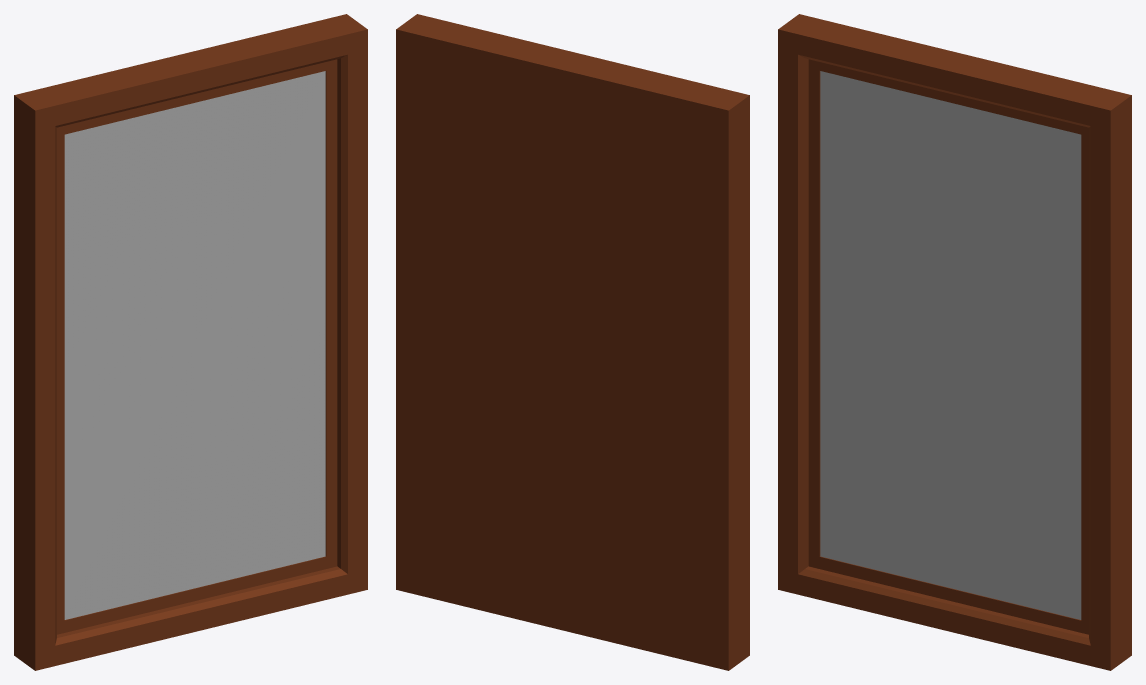
The model's file is Mirror.glb.
3 renders of one model, left to right at view 1: azimuth 30°, elevation 25°; view 2: azimuth 150°, elevation 25°; view 3: azimuth 330°, elevation 25°, orthographic.
Visible parts, largest first — view 1: Node; view 2: Node; view 3: Node.
Boxes of the visible parts, x1,y1,x2,y2 form: Node: (14,14,367,670); Node: (396,14,749,670); Node: (778,14,1131,670).
Bounding box in the file's own units: 6.56 × 10.56 × 0.7197.
